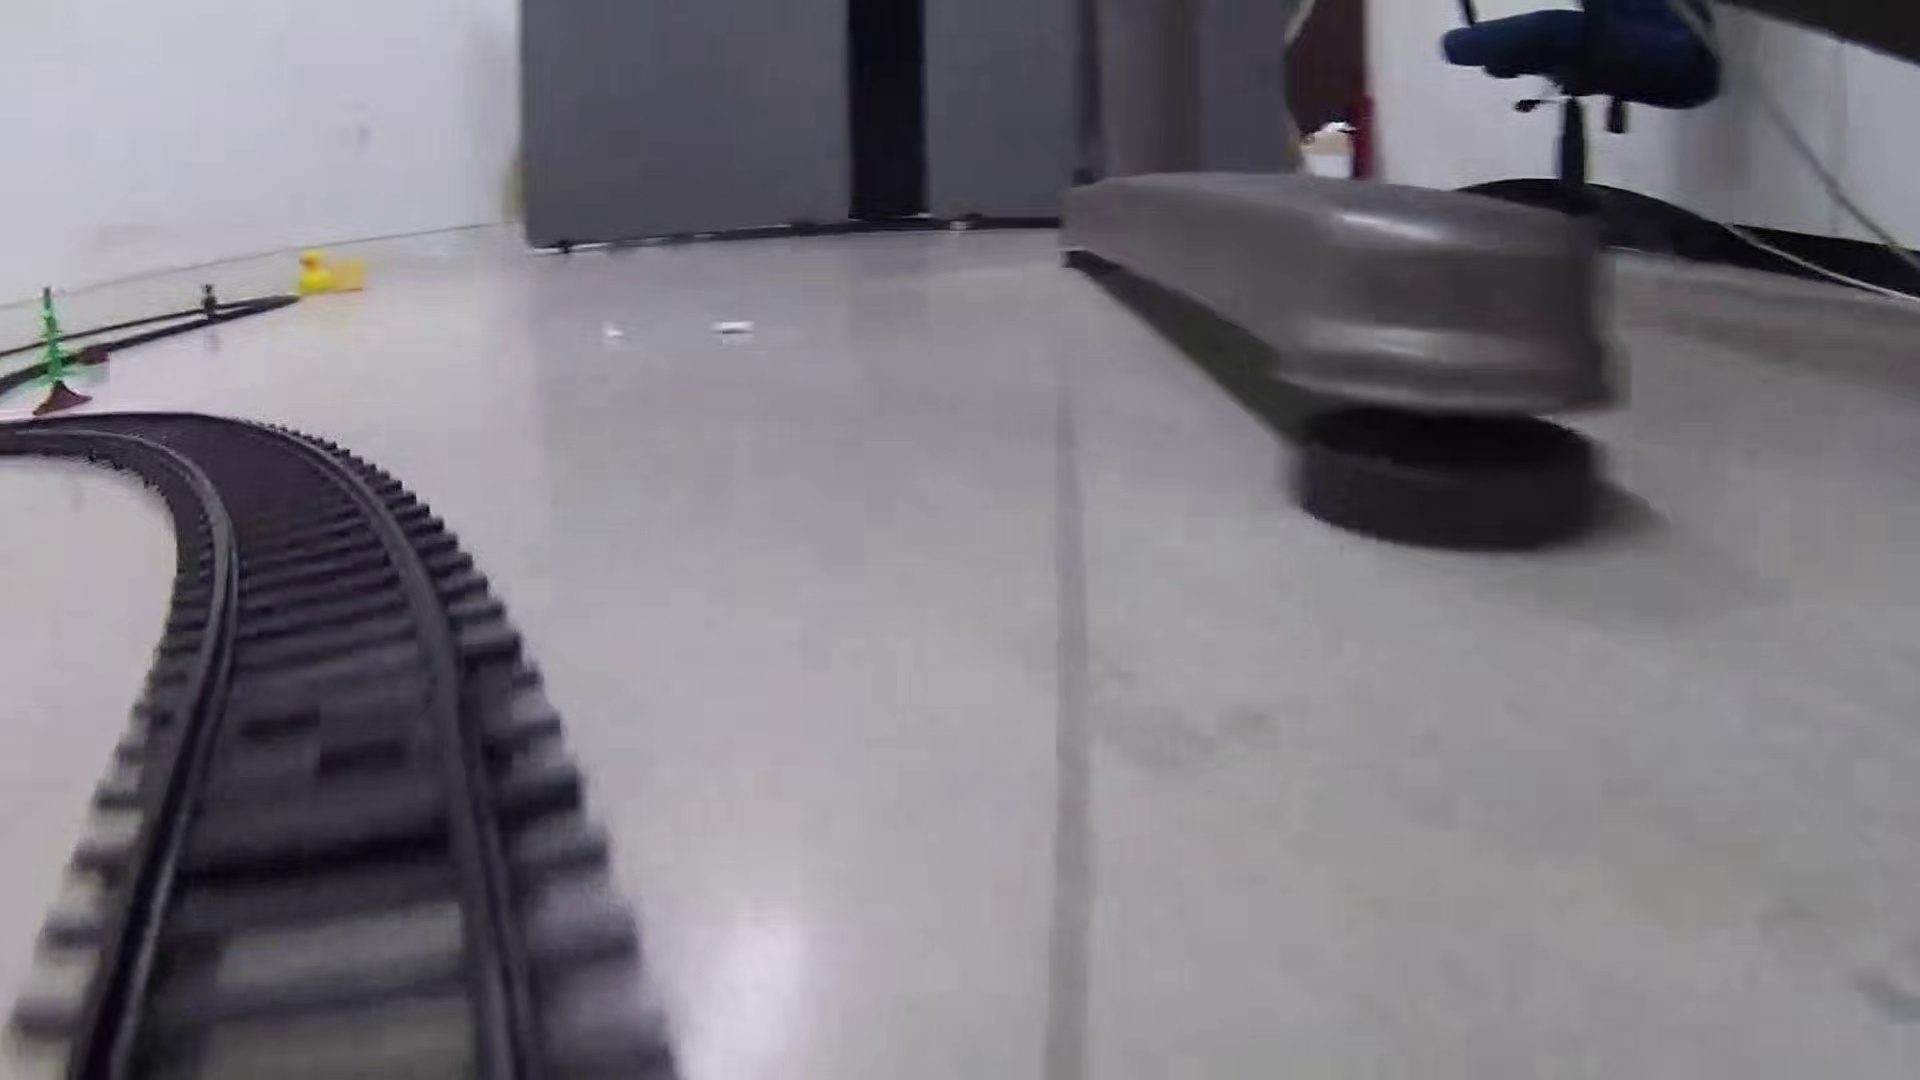box: (72, 341, 109, 368)
people: (196, 280, 220, 324)
tree: (22, 280, 94, 422)
